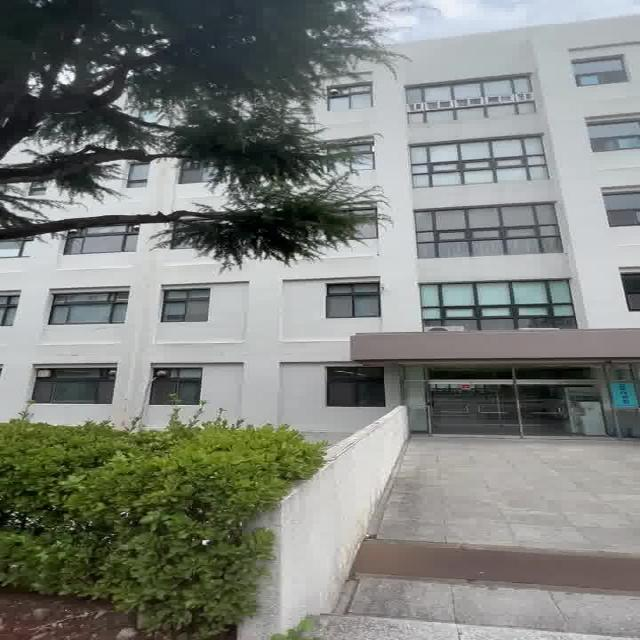building: (361, 71, 640, 470)
